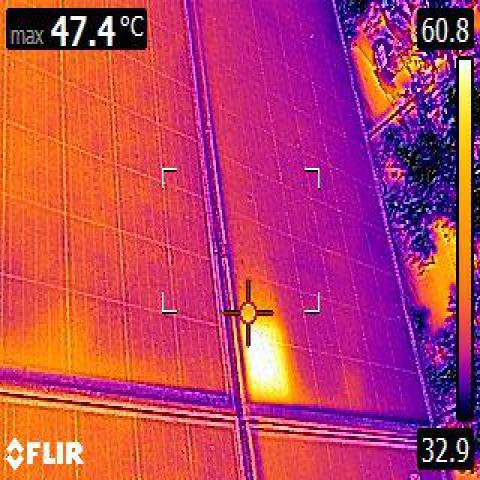fault: (243, 331, 292, 401)
